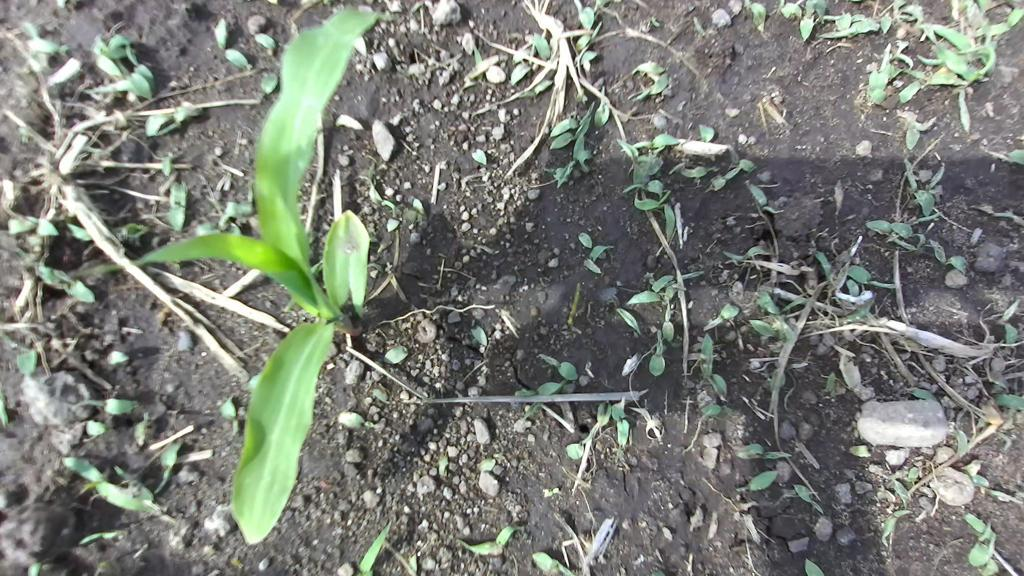BroWeed: (51, 446, 181, 539), (208, 179, 271, 239), (31, 256, 99, 311), (914, 38, 982, 88), (553, 116, 598, 191), (104, 462, 165, 515), (456, 522, 529, 565), (205, 16, 254, 78), (885, 97, 939, 151), (105, 57, 159, 105), (118, 43, 165, 97), (901, 153, 939, 218), (150, 95, 205, 139), (956, 33, 1005, 82), (863, 213, 922, 253), (355, 515, 393, 576), (148, 433, 184, 496), (546, 101, 600, 143), (616, 132, 656, 188), (920, 237, 974, 278), (633, 190, 675, 242), (739, 177, 785, 222), (844, 261, 897, 299), (44, 52, 88, 95), (817, 15, 880, 45), (872, 502, 912, 548), (866, 40, 900, 94), (920, 21, 975, 54), (698, 299, 743, 339), (734, 466, 783, 502), (699, 159, 742, 200), (163, 178, 193, 236), (749, 289, 806, 319), (546, 118, 593, 154), (962, 532, 1006, 570), (962, 504, 1000, 548), (458, 51, 509, 82), (86, 41, 122, 84), (790, 477, 826, 520), (526, 546, 577, 576), (968, 471, 1014, 504), (136, 103, 174, 142), (634, 71, 673, 109), (845, 291, 884, 328), (570, 18, 609, 55), (889, 215, 929, 251), (617, 131, 679, 154), (535, 353, 582, 382), (581, 236, 615, 276), (720, 144, 760, 177), (995, 298, 1020, 350), (612, 301, 646, 339), (561, 423, 594, 462), (607, 398, 633, 447), (94, 343, 131, 377), (732, 441, 793, 461), (515, 379, 568, 401), (698, 332, 717, 393), (952, 86, 975, 135), (723, 241, 772, 264), (668, 159, 719, 181), (217, 392, 240, 440), (946, 418, 972, 460), (888, 37, 921, 70), (621, 175, 666, 199), (749, 314, 785, 344), (59, 216, 95, 245), (336, 408, 376, 434), (892, 58, 930, 85), (517, 76, 555, 103), (644, 263, 677, 294), (71, 399, 139, 414), (378, 340, 412, 370), (22, 20, 41, 72), (892, 78, 925, 107), (77, 526, 127, 545), (960, 1, 989, 33), (654, 277, 686, 306), (379, 196, 404, 233), (593, 85, 614, 129), (165, 521, 189, 558), (811, 248, 837, 282), (28, 37, 71, 57), (152, 147, 178, 180), (979, 397, 1005, 430), (916, 17, 945, 46), (405, 193, 435, 221), (24, 216, 62, 238), (814, 11, 853, 32), (649, 329, 666, 377), (505, 58, 533, 87), (112, 220, 150, 241), (364, 168, 383, 210), (890, 476, 914, 509), (925, 67, 969, 85), (33, 49, 61, 77), (924, 162, 947, 196), (94, 32, 131, 53), (251, 27, 280, 53), (817, 370, 843, 399), (846, 442, 883, 462), (624, 288, 665, 306), (83, 79, 132, 94), (992, 425, 1019, 452), (508, 43, 539, 66), (619, 348, 642, 379), (531, 30, 553, 62), (636, 144, 668, 166), (368, 381, 395, 407), (709, 371, 732, 401), (658, 303, 675, 343), (960, 453, 986, 479), (483, 63, 509, 89), (698, 402, 739, 418), (239, 367, 262, 395), (643, 153, 666, 179), (17, 350, 36, 381), (910, 210, 944, 227), (132, 411, 148, 447), (866, 83, 890, 107), (334, 112, 366, 130), (574, 228, 598, 252), (468, 322, 489, 348), (519, 399, 542, 422), (982, 22, 999, 52), (405, 57, 428, 79), (988, 150, 1024, 164), (864, 460, 889, 480), (89, 557, 115, 576), (594, 401, 612, 428), (881, 60, 903, 82), (688, 15, 708, 39), (632, 60, 666, 74), (400, 207, 425, 226), (7, 218, 36, 234), (197, 542, 219, 563), (469, 146, 490, 167), (224, 220, 246, 240), (780, 0, 802, 20), (176, 327, 193, 352), (350, 34, 367, 59), (577, 148, 594, 173), (0, 389, 10, 431), (909, 387, 939, 401), (544, 166, 572, 181), (16, 123, 34, 146), (903, 464, 922, 485), (84, 419, 106, 437), (844, 276, 862, 298), (577, 47, 599, 65), (978, 559, 1001, 576), (101, 48, 136, 59), (804, 557, 824, 576), (261, 72, 278, 94), (227, 548, 244, 570), (833, 178, 843, 215), (829, 381, 848, 399), (376, 237, 393, 257), (469, 41, 483, 65), (476, 457, 497, 472), (366, 260, 388, 274), (898, 475, 915, 493), (543, 484, 562, 500), (573, 87, 589, 106), (814, 0, 826, 25), (698, 124, 714, 142), (127, 237, 146, 251), (593, 0, 610, 15), (406, 554, 418, 575), (883, 469, 905, 480), (988, 382, 1006, 395), (438, 454, 448, 477), (27, 561, 42, 576), (491, 451, 506, 466), (640, 70, 660, 81), (647, 15, 662, 29), (460, 78, 477, 90), (882, 13, 891, 35), (56, 0, 69, 13), (951, 0, 959, 20), (898, 14, 917, 22), (851, 13, 865, 23), (476, 72, 485, 86), (894, 0, 906, 9), (650, 570, 666, 576), (670, 341, 681, 349)
